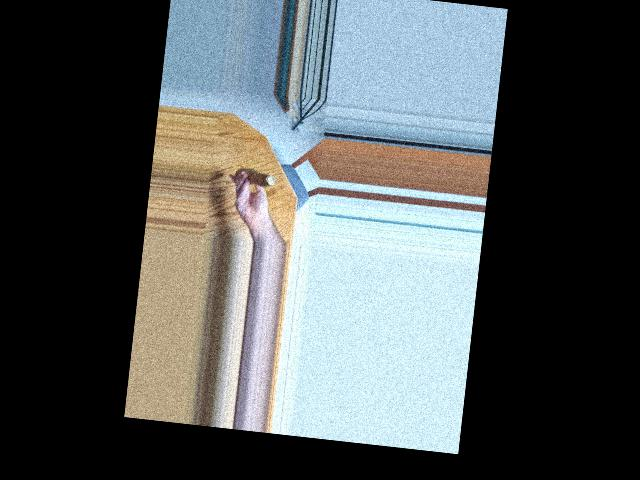sweet_potato: (236, 167, 269, 188)
